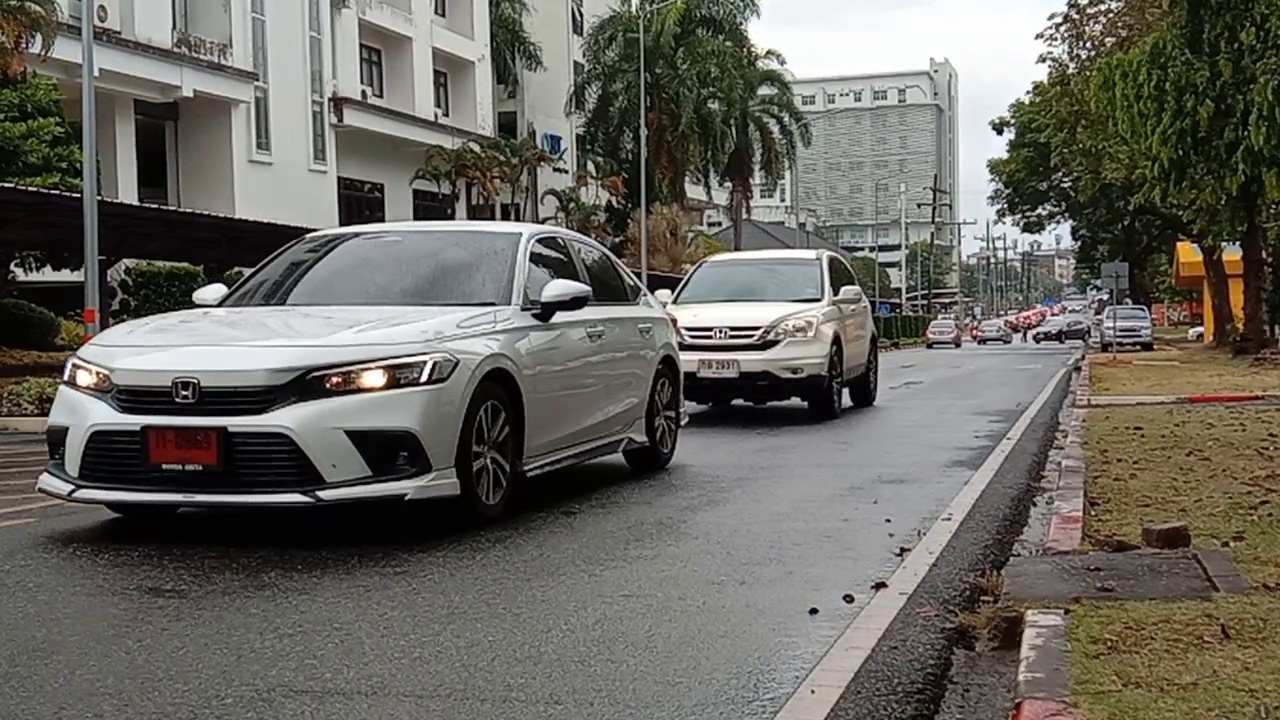License Plate: (143, 423, 222, 470), (695, 359, 739, 379)
